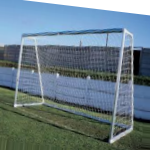goals: (13, 27, 138, 144)
